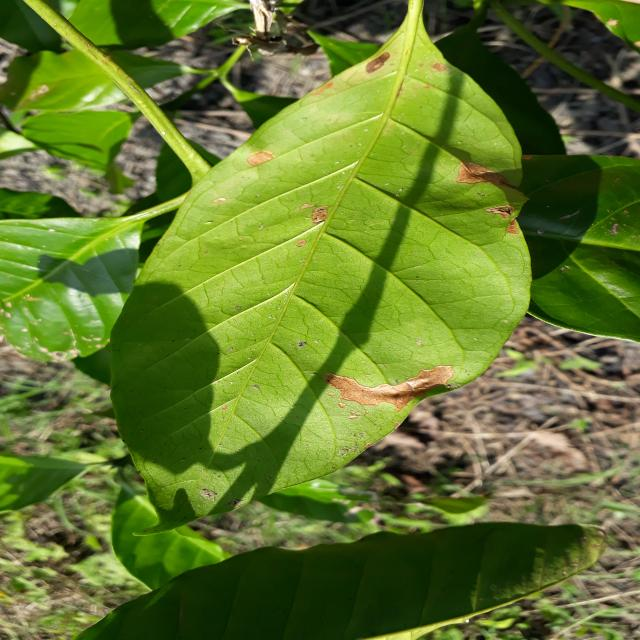Plaga-AranaRoja: (72, 0, 533, 530)
